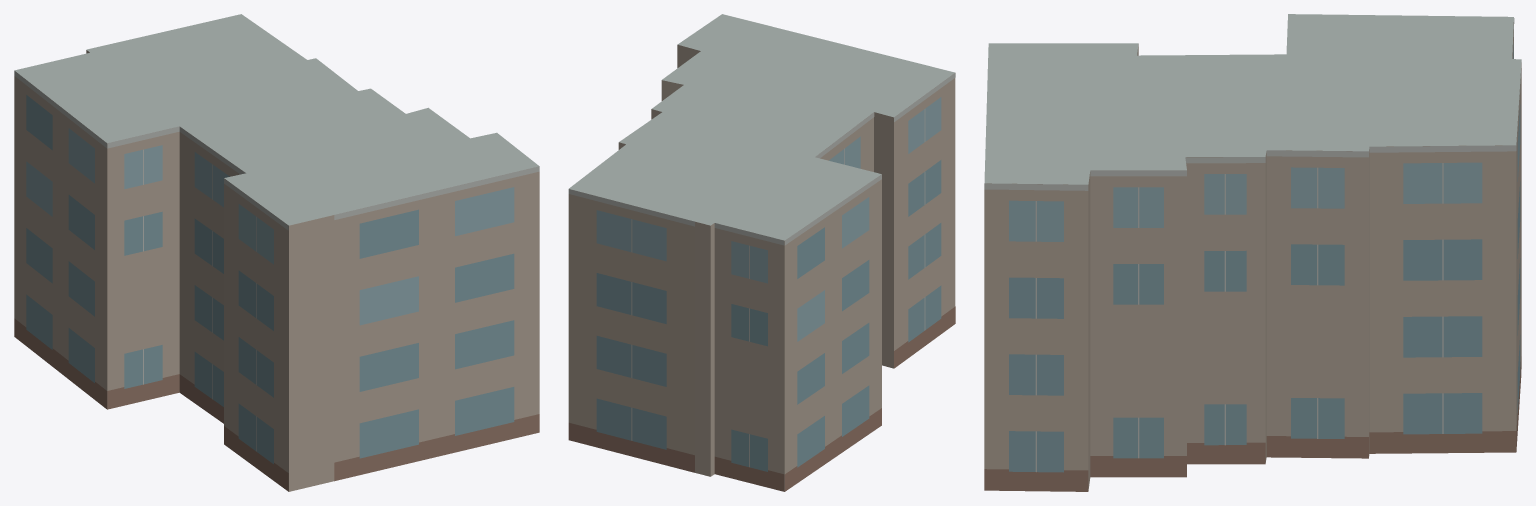
Rendered from survey-upis-32654044.glb.
3 views of the same model, side by side, from view 1: azimuth 30°, elevation 25°; view 2: azimuth 150°, elevation 25°; view 3: azimuth 270°, elevation 25° (orthographic). The views are drawn at different scales.
Visible parts, largest first — view 1: survey-upis-32654044.tmp; view 2: survey-upis-32654044.tmp; view 3: survey-upis-32654044.tmp.
Boxes of the visible parts, x1,y1,x2,y2 form: survey-upis-32654044.tmp: (14,14,539,491); survey-upis-32654044.tmp: (568,14,955,491); survey-upis-32654044.tmp: (984,14,1521,491).
Bounding box in the file's own units: 14.55 × 12.2 × 19.34.
